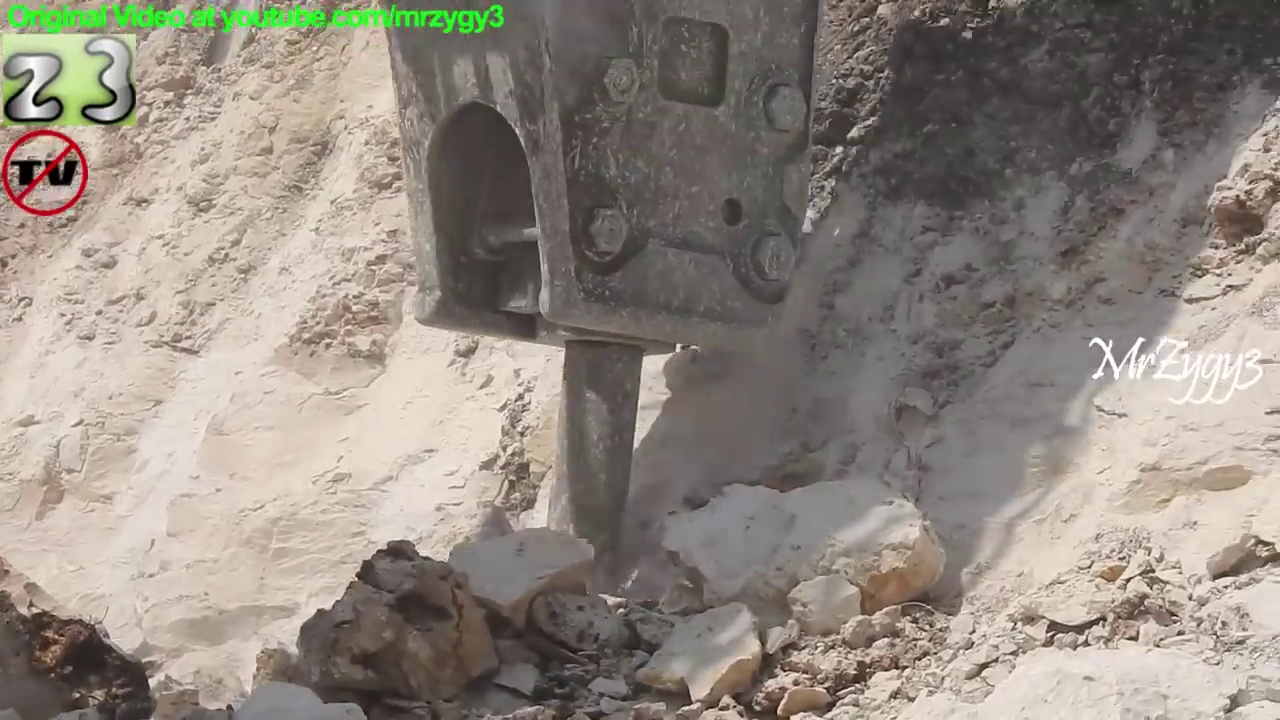excavator: (359, 1, 834, 585)
